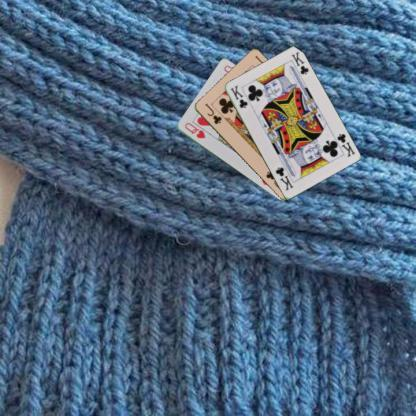Jc: (202, 100, 223, 126)
Kc: (228, 82, 250, 110), (334, 131, 356, 158)
Qh: (182, 120, 206, 140)
